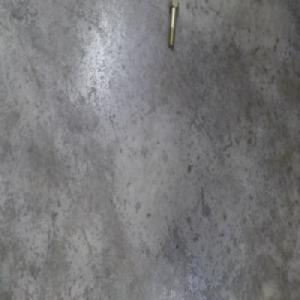Bolt: (166, 6, 180, 53)
